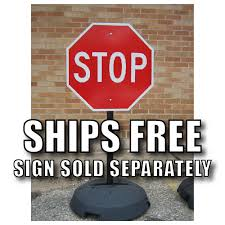Stop: (67, 17, 160, 122)
